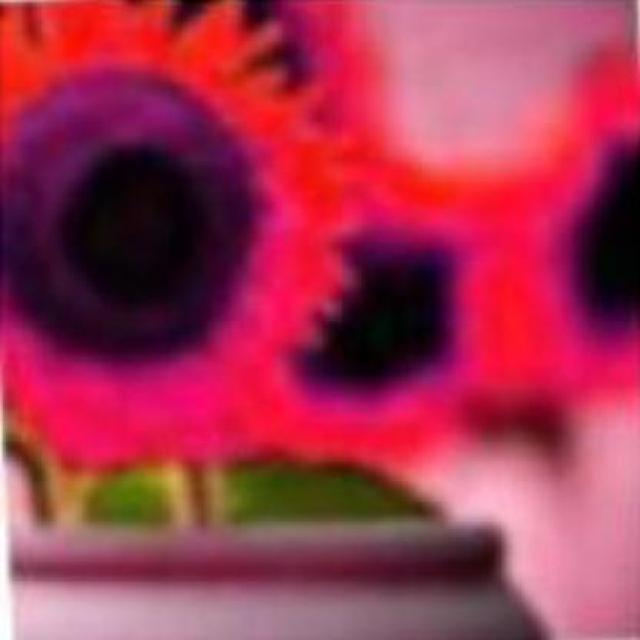sunflower: (0, 0, 346, 471)
